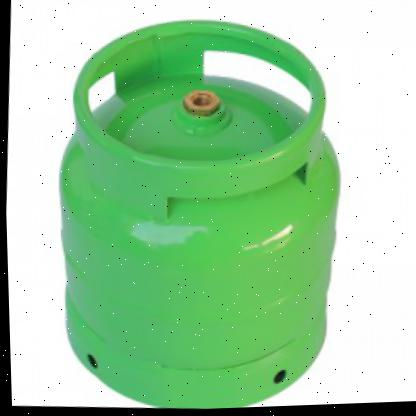gas-tank: (12, 0, 383, 415)
